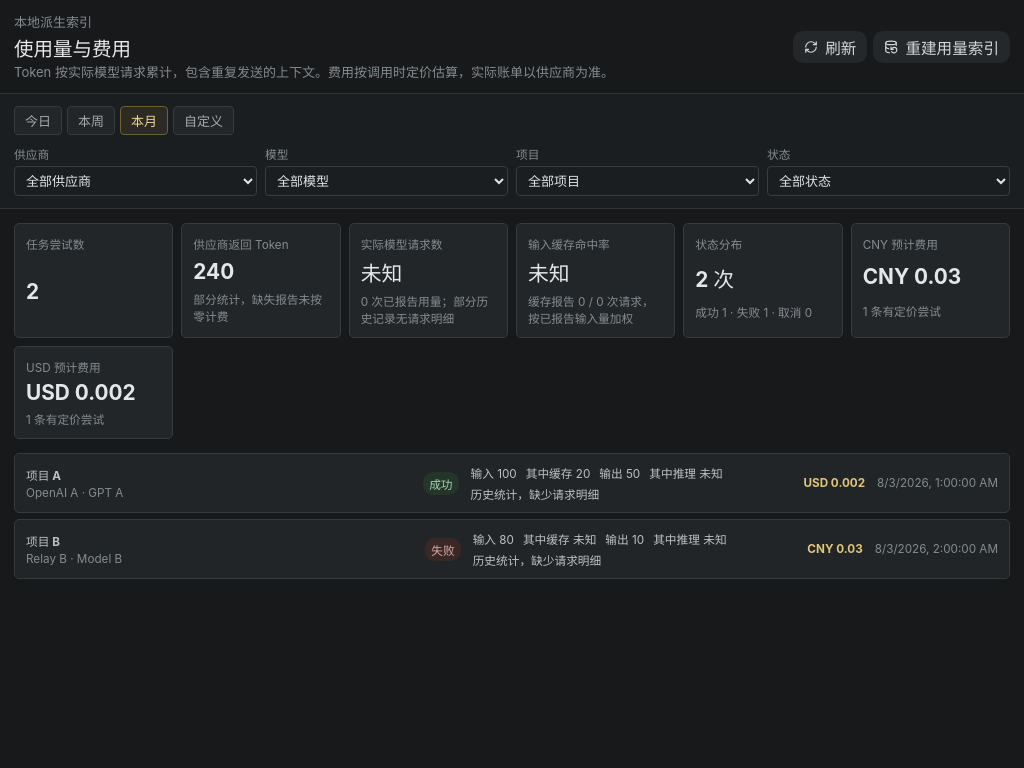
UsageDashboard › rebuilds the derived usage index and refreshes the list
Click the button "重建用量索引" at coordinates (942, 46), box x1=873 y1=30 x2=1010 y2=62
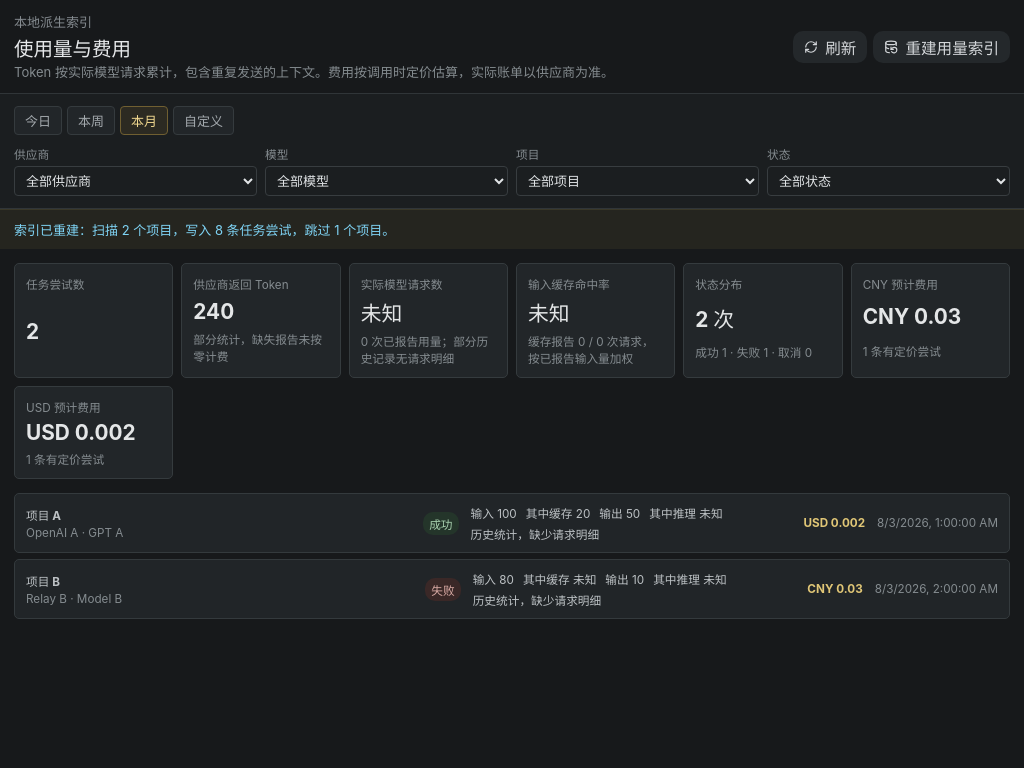
Expected: the text "索引已重建：扫描 2 个项目，写入 8 条任务尝试，跳过 1 个项目。" is shown, x1=0 y1=209 x2=1023 y2=249
